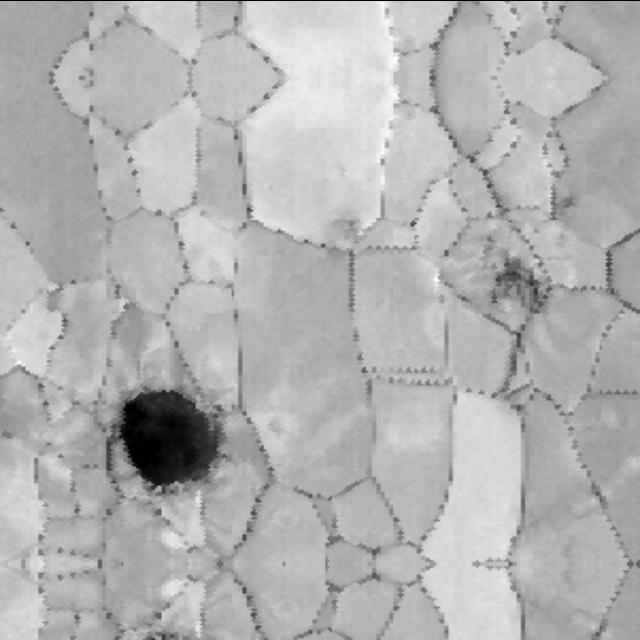good_void: (114, 374, 229, 501), (470, 228, 545, 312), (322, 211, 366, 259), (559, 194, 580, 215), (119, 297, 136, 316)
